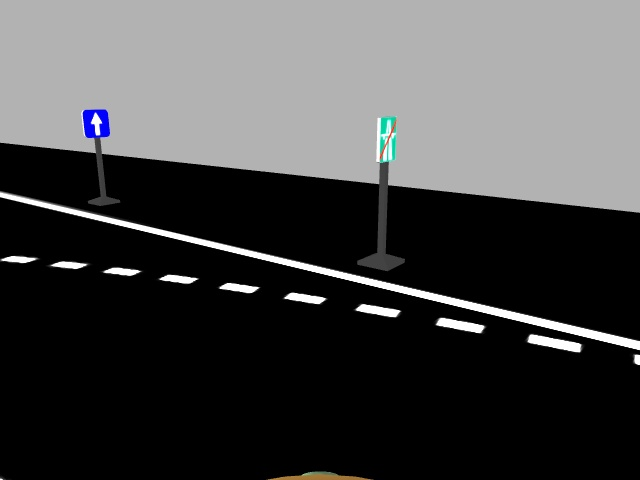HighwayExit: (374, 115, 399, 164)
OneWay: (77, 109, 110, 139)
